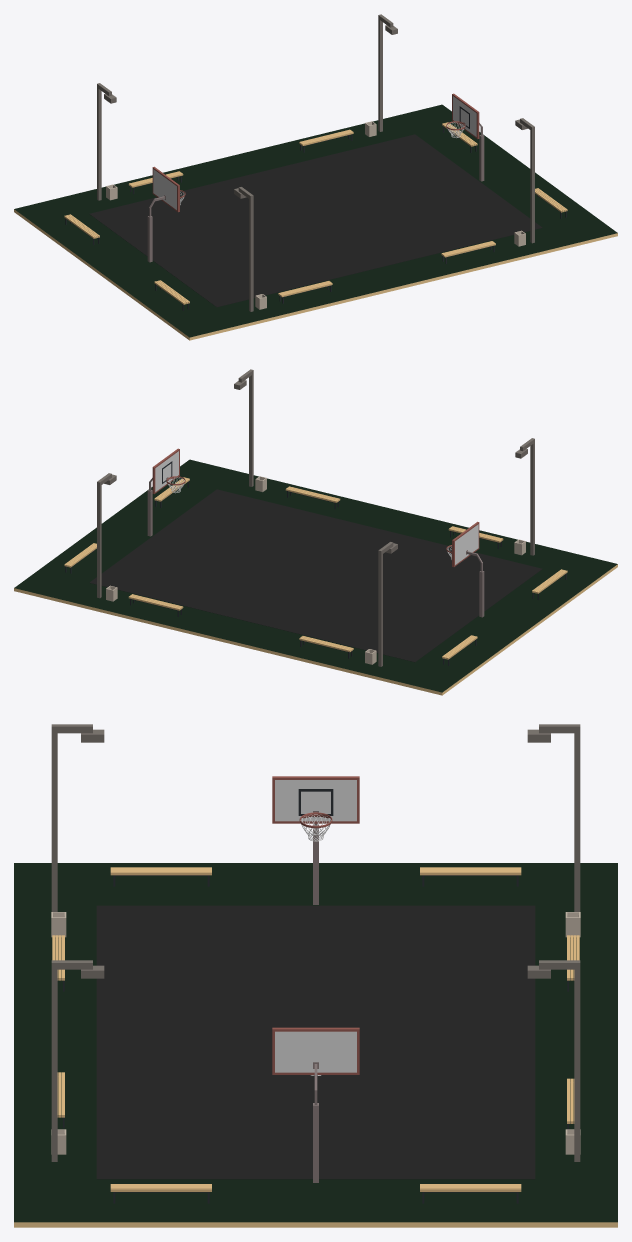
The picture shows the model from 3 angles, top to bottom: view 1: azimuth 30°, elevation 25°; view 2: azimuth 150°, elevation 25°; view 3: azimuth 270°, elevation 25°; orthographic projection. The views are drawn at different scales.
Visible parts, largest first — view 1: Court_2, Base_1, Light Pillars_3, Benches_4, Basketball_Stand_6, Dust_Bin_5; view 2: Court_2, Base_1, Light Pillars_3, Benches_4, Basketball_Stand_6, Dust_Bin_5; view 3: Court_2, Base_1, Basketball_Stand_6, Light Pillars_3, Benches_4, Dust_Bin_5.
Part boxes in pixels (x1,y1,x2,y2): Court_2: (89, 134, 542, 307); Base_1: (14, 104, 617, 340); Light Pillars_3: (97, 14, 534, 311); Benches_4: (64, 122, 567, 310); Basketball_Stand_6: (147, 93, 484, 262); Dust_Bin_5: (106, 121, 525, 309); Court_2: (89, 489, 542, 662); Base_1: (14, 459, 617, 695); Light Pillars_3: (97, 369, 534, 666); Benches_4: (64, 477, 567, 665); Basketball_Stand_6: (147, 448, 484, 617); Dust_Bin_5: (106, 476, 525, 664); Court_2: (96, 905, 535, 1179); Base_1: (14, 863, 617, 1227); Basketball_Stand_6: (272, 776, 359, 1182); Light Pillars_3: (51, 724, 580, 1161); Benches_4: (52, 867, 579, 1203); Dust_Bin_5: (51, 912, 580, 1154).
Bounding box in the file's own units: 5.79 × 1.53 × 4.11.
